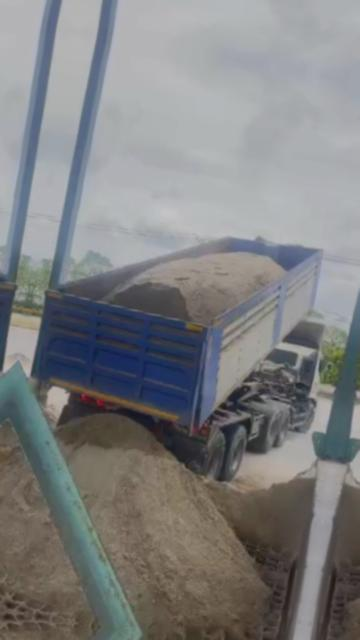sand: (56, 414, 268, 640), (0, 448, 91, 624), (102, 252, 285, 323), (207, 474, 314, 557), (3, 420, 17, 448), (40, 405, 57, 428)
